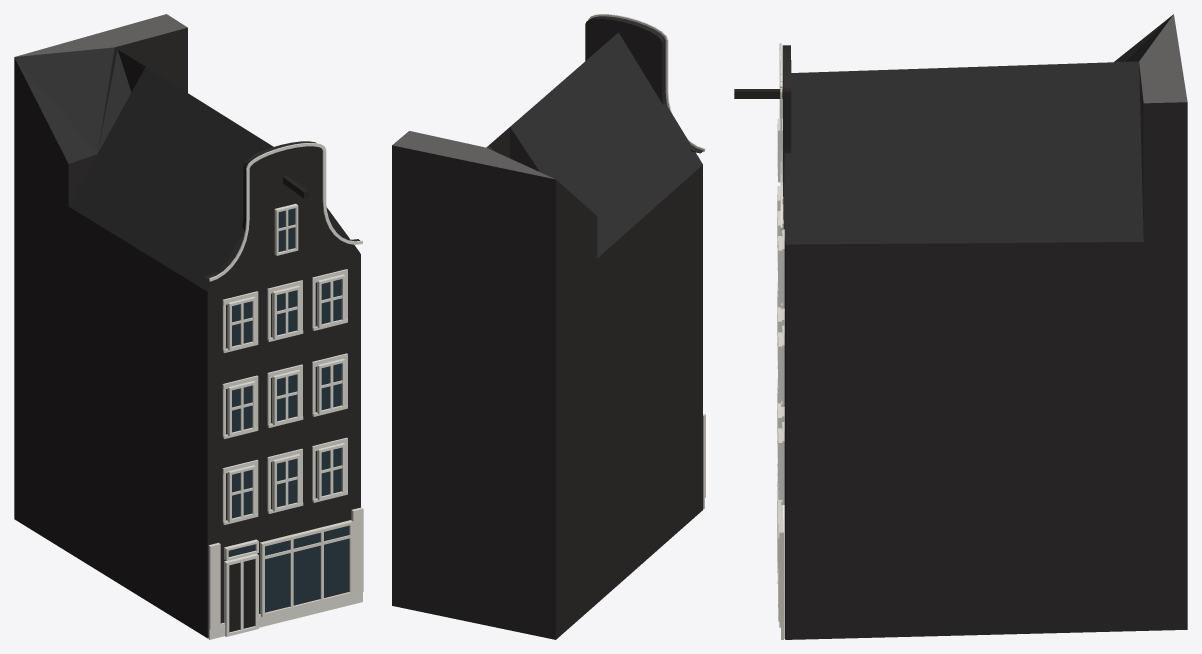
The picture shows the model from 3 angles, left to right: view 1: azimuth 30°, elevation 25°; view 2: azimuth 150°, elevation 25°; view 3: azimuth 270°, elevation 25°; orthographic projection. The views are drawn at different scales.
Parts seen in each view (by area): view 1: spec-0363100012177979; view 2: spec-0363100012177979; view 3: spec-0363100012177979.
Part boxes in pixels (left/top/right/bottom): spec-0363100012177979: left=14, top=14, right=363, bottom=639; spec-0363100012177979: left=392, top=14, right=705, bottom=639; spec-0363100012177979: left=734, top=14, right=1187, bottom=639.
Size of the model in its own units: 5.17 by 13.26 by 10.06.
